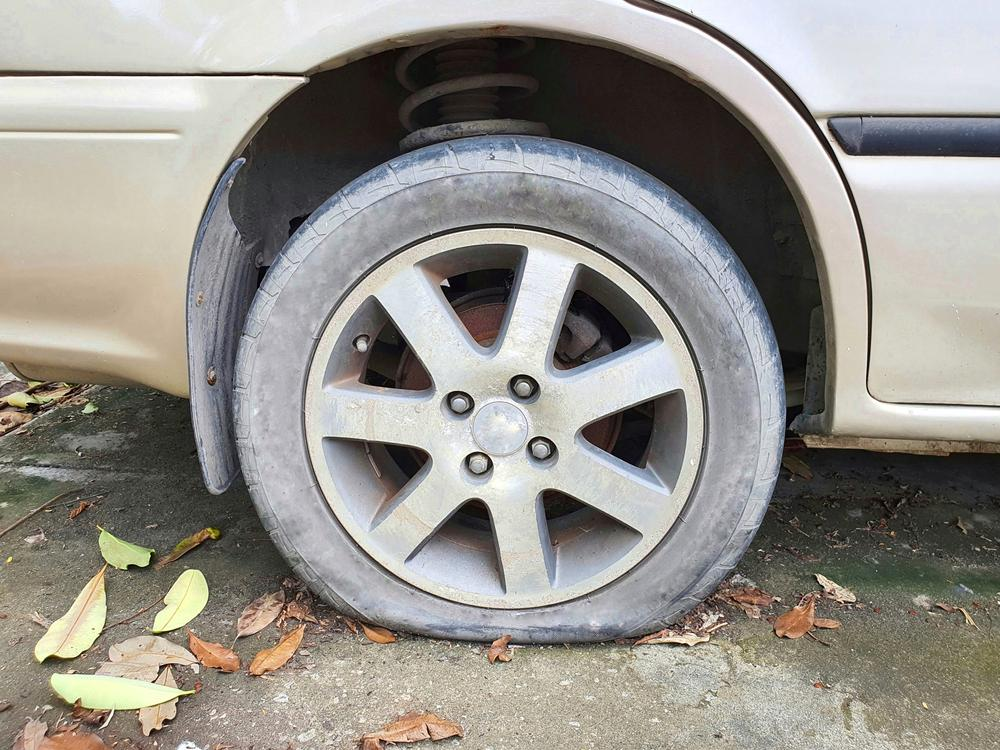tire flat: (231, 134, 788, 647)
